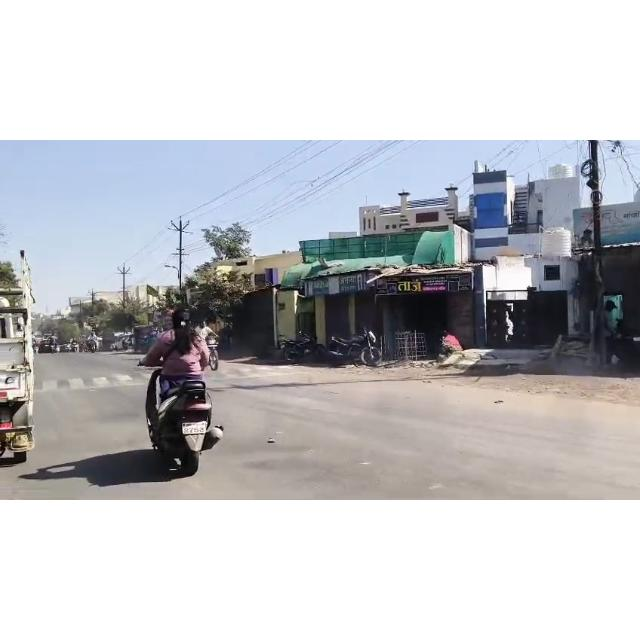car: (39, 337, 61, 359)
truck: (3, 287, 53, 455)
